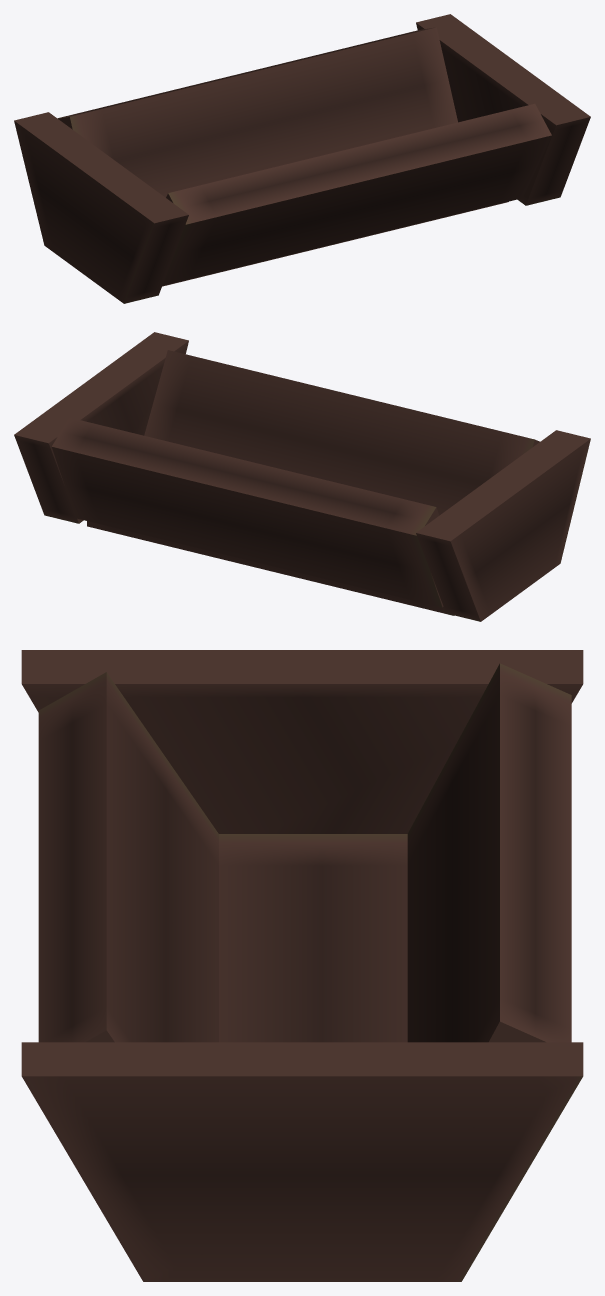
File: water_bowl_v040.fbx
The picture shows the model from 3 angles, top to bottom: view 1: azimuth 30°, elevation 25°; view 2: azimuth 150°, elevation 25°; view 3: azimuth 270°, elevation 25°; orthographic projection. The views are drawn at different scales.
Parts seen in each view (by area): view 1: water_bowl_v040; view 2: water_bowl_v040; view 3: water_bowl_v040.
Boxes of the visible parts, box(x1,y1,x2,y2) form: water_bowl_v040: box(14, 14, 590, 303); water_bowl_v040: box(14, 332, 590, 621); water_bowl_v040: box(21, 650, 583, 1281).
Size of the model in its own units: 263 by 70.19 by 147.
